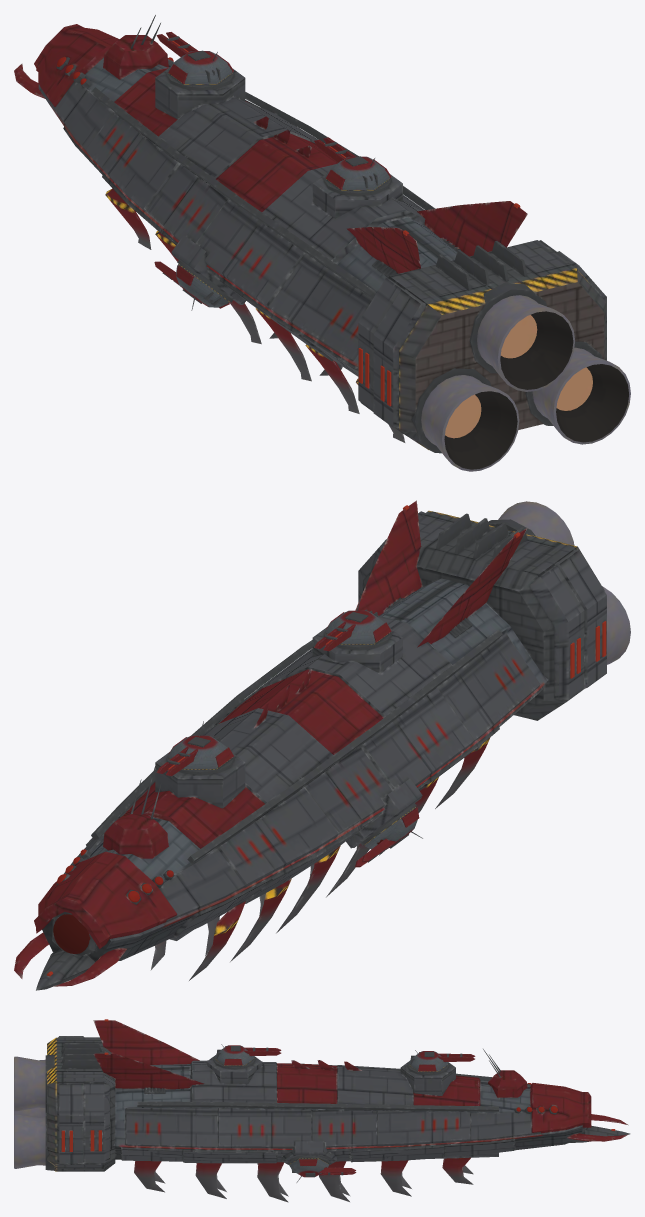
Rendered from warden.glb.
3 renders of one model, top to bottom at view 1: azimuth 30°, elevation 25°; view 2: azimuth 150°, elevation 25°; view 3: azimuth 270°, elevation 25°, orthographic. The views are drawn at different scales.
Parts seen in each view (by area): view 1: hull, turret_01, turret_00, turret_03, turret_01_gun, turret_00_gun; view 2: hull, turret_01, turret_00, turret_03, turret_01_gun, turret_00_gun; view 3: hull, turret_00, turret_01, turret_02, turret_01_gun, turret_00_gun, turret_02_gun.
Boxes of the visible parts, x1,y1,x2,y2 form: hull: (14,15,630,471); turret_01: (323,156,391,196); turret_00: (166,51,234,90); turret_03: (176,260,232,310); turret_01_gun: (314,137,368,166); turret_00_gun: (156,32,210,60); hull: (14,500,630,990); turret_01: (323,596,391,650); turret_00: (166,721,234,775); turret_03: (360,803,422,849); turret_01_gun: (314,612,368,651); turret_00_gun: (156,737,210,776); hull: (14,1019,630,1202); turret_00: (407,1050,449,1075); turret_01: (213,1044,255,1069); turret_02: (288,1155,330,1182); turret_01_gun: (231,1046,281,1055); turret_00_gun: (424,1052,475,1061); turret_02_gun: (305,1167,356,1176).
Bounding box in the file's own units: 37.26 × 41.31 × 140.
Materials: 2 (2 with a texture image).
